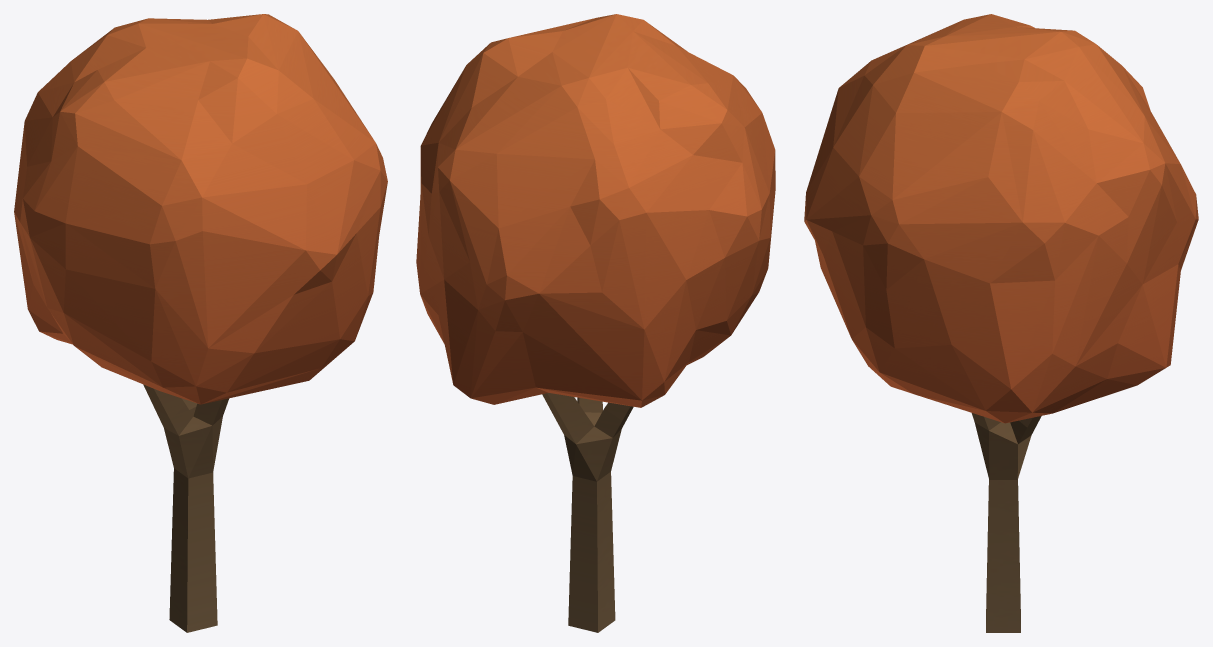
Rendered from medium-tree-2.glb.
3 views of the same model, side by side, from view 1: azimuth 30°, elevation 25°; view 2: azimuth 150°, elevation 25°; view 3: azimuth 270°, elevation 25° (orthographic). The views are drawn at different scales.
Parts seen in each view (by area): view 1: medium-tree-2; view 2: medium-tree-2; view 3: medium-tree-2.
Boxes of the visible parts, x1=… form: medium-tree-2: x1=14, y1=14, x2=387, y2=632; medium-tree-2: x1=416, y1=14, x2=775, y2=632; medium-tree-2: x1=804, y1=14, x2=1198, y2=632.
Bounding box in the file's own units: 0.1757 × 0.2982 × 0.1818.
1 material, 1 textured.
